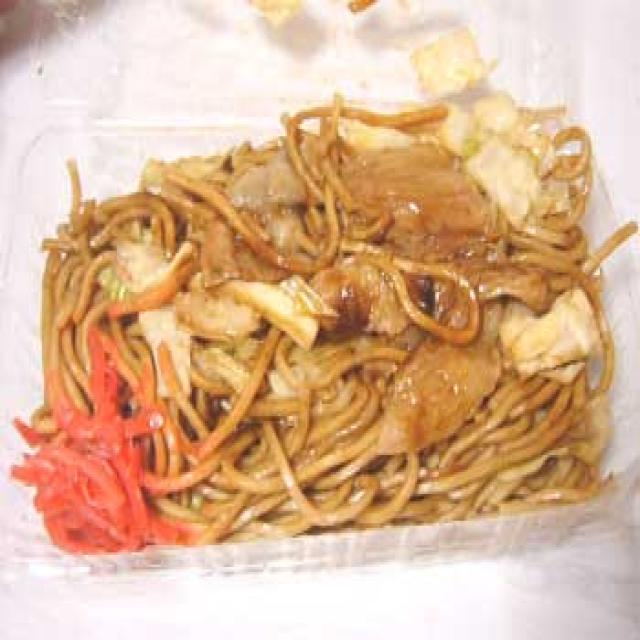面条主食: (31, 110, 602, 545)
